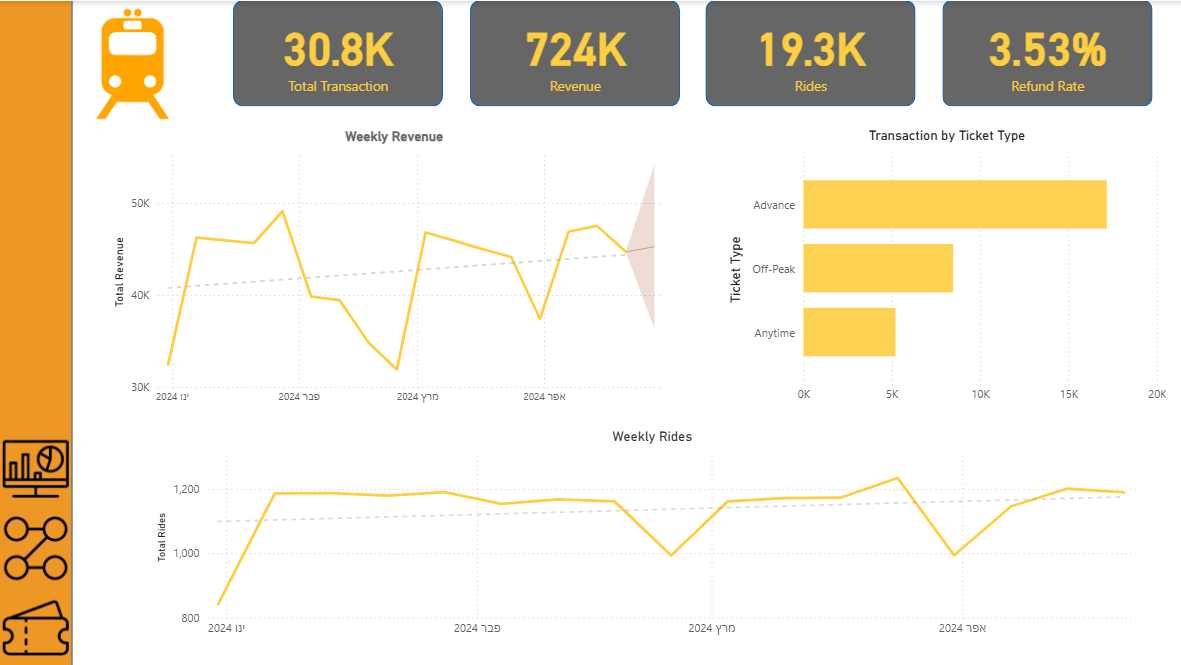

What the dashboard file says about the page in this screenshot:
{"tool":"powerbi","page":{"name":"Executive Dasboard","canvas":[1280,720],"ordinal":0},"visuals":[{"type":"shape","box":[0,0,79.3,720.6],"z":0},{"type":"shape","box":[252.6,0,226.7,115],"z":1000},{"type":"shape","box":[507.9,0,226.7,115],"z":2000},{"type":"shape","box":[763.2,0,226.7,115],"z":3000},{"type":"shape","box":[1018.5,0,226.7,115],"z":4000},{"type":"card","fields":{"Values":["Mesure Table.Total Transaction"]},"box":[253.1,0,226.7,115],"z":5000},{"type":"card","fields":{"Values":["Mesure Table.Total Revenue"]},"box":[508.4,0,226.7,115],"z":6000},{"type":"card","fields":{"Values":["Mesure Table.Total Rides"]},"box":[762.7,0,226.7,115],"z":7000},{"type":"card","fields":{"Values":["Mesure Table.Refund Rate"]},"box":[1018.5,0,226.7,115],"z":8000},{"type":"lineChart","title":"Weekly Revenue ","fields":{"Category":["railway.Start of Week - Journey"],"Y":["Mesure Table.Total Revenue"]},"box":[118.2,139.3,616.9,306],"z":9000},{"type":"clusteredBarChart","title":" Transaction by Ticket Type","fields":{"Y":["Mesure Table.Total Transaction"],"Category":["railway.Ticket Type"]},"box":[782.1,137.6,482.5,306],"z":10000},{"type":"lineChart","title":"Weekly Rides ","fields":{"Category":["railway.Start of Week - Journey"],"Y":["Mesure Table.Total Rides"]},"box":[165.2,463.1,1080,233.2],"z":11000},{"type":"image","box":[79.3,0,129.5,137.6],"z":12000},{"type":"actionButton","box":[0,463.1,79.3,85.8],"z":13000},{"type":"actionButton","box":[0,548.9,79.3,85.8],"z":14000},{"type":"actionButton","box":[0,634.7,79.3,85.8],"z":15000}]}

Visuals, with their boxes on the page's 1280x720 design canvas (x1, y1, x2, y2). These are canvas units, not pixel positions in the 1181x665 screenshot, which may show the page scaled, cropped or inside an application window:
shape: Rect(0, 0, 79, 721)
shape: Rect(253, 0, 479, 115)
shape: Rect(508, 0, 735, 115)
shape: Rect(763, 0, 990, 115)
shape: Rect(1018, 0, 1245, 115)
card - Mesure Table.Total Transaction: Rect(253, 0, 480, 115)
card - Mesure Table.Total Revenue: Rect(508, 0, 735, 115)
card - Mesure Table.Total Rides: Rect(763, 0, 989, 115)
card - Mesure Table.Refund Rate: Rect(1018, 0, 1245, 115)
"Weekly Revenue " lineChart: Rect(118, 139, 735, 445)
" Transaction by Ticket Type" clusteredBarChart: Rect(782, 138, 1265, 444)
"Weekly Rides " lineChart: Rect(165, 463, 1245, 696)
image: Rect(79, 0, 209, 138)
actionButton: Rect(0, 463, 79, 549)
actionButton: Rect(0, 549, 79, 635)
actionButton: Rect(0, 635, 79, 720)
